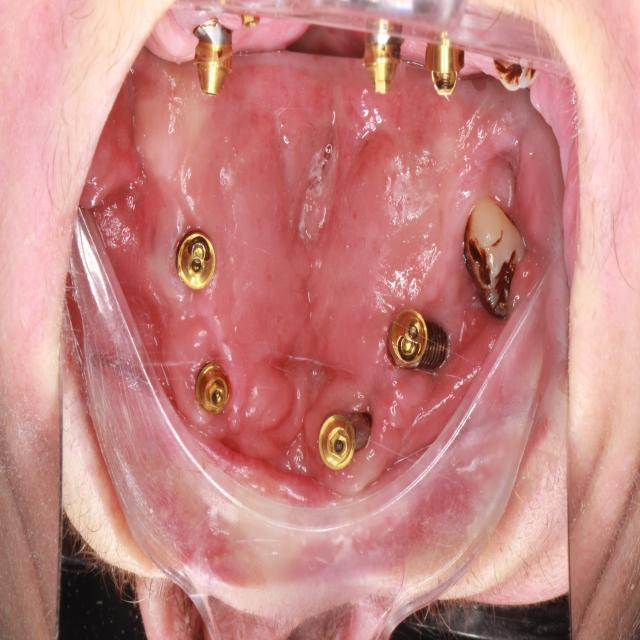tooth: (455, 183, 533, 324)
